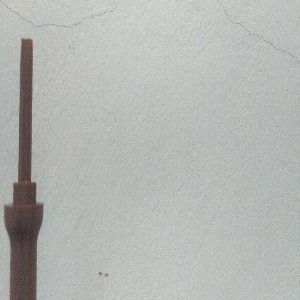obeng: (3, 38, 45, 300)
